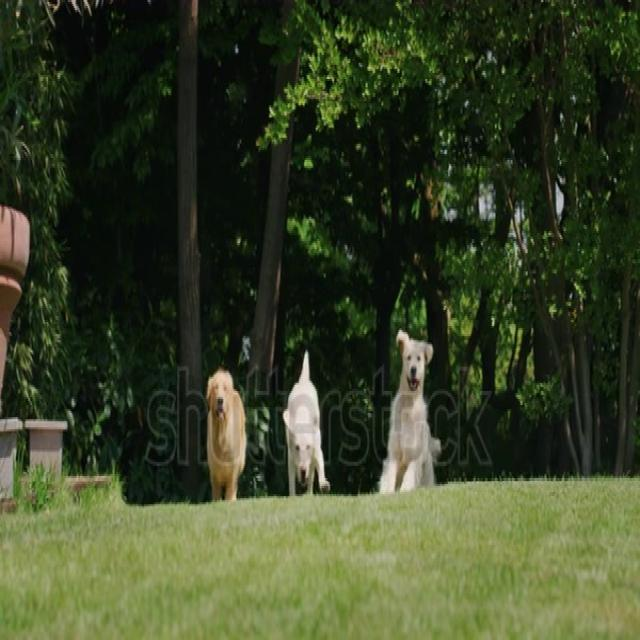normal_animals: (374, 324, 443, 498)
